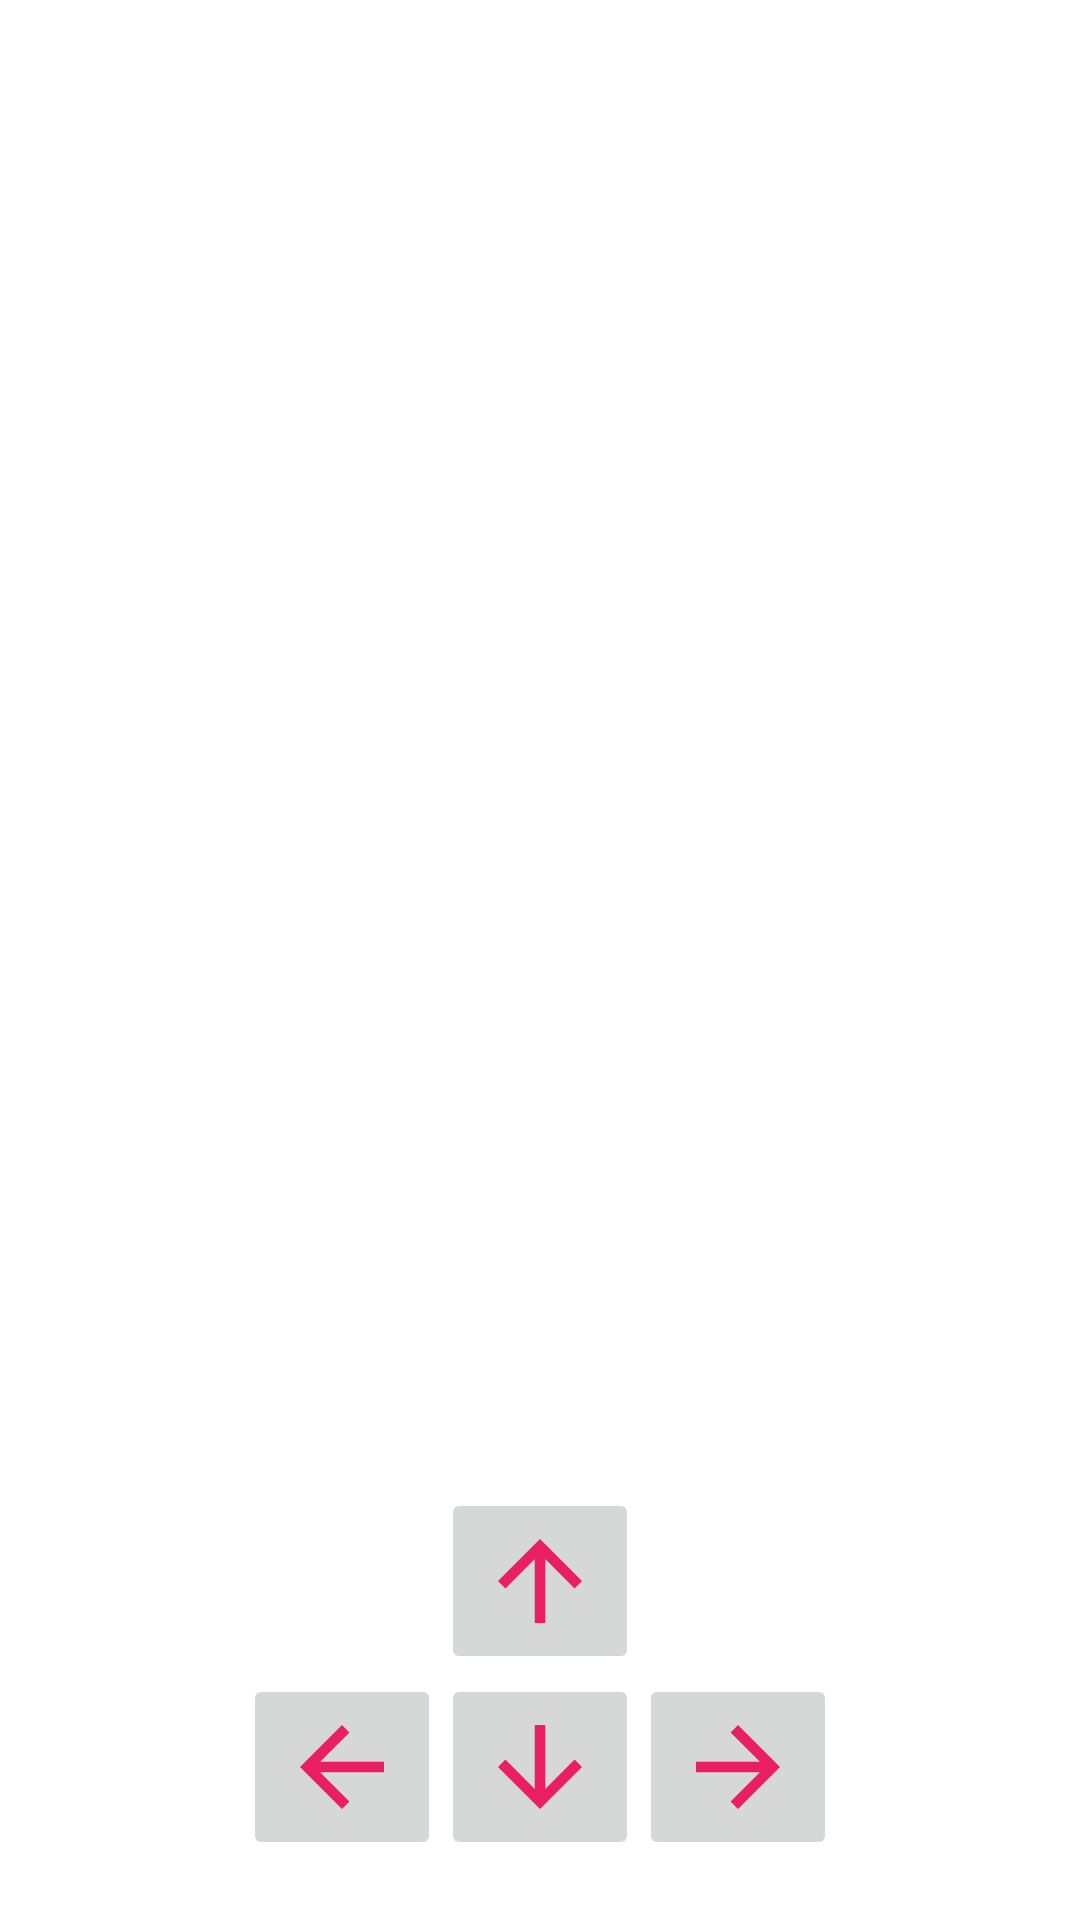

Icon click points for this 1080 x 1920 phone screenshot, format point (x, y):
arrow down: point (540, 1767)
arrow left: point (342, 1767)
arrow right: point (738, 1767)
arrow up: point (540, 1581)
